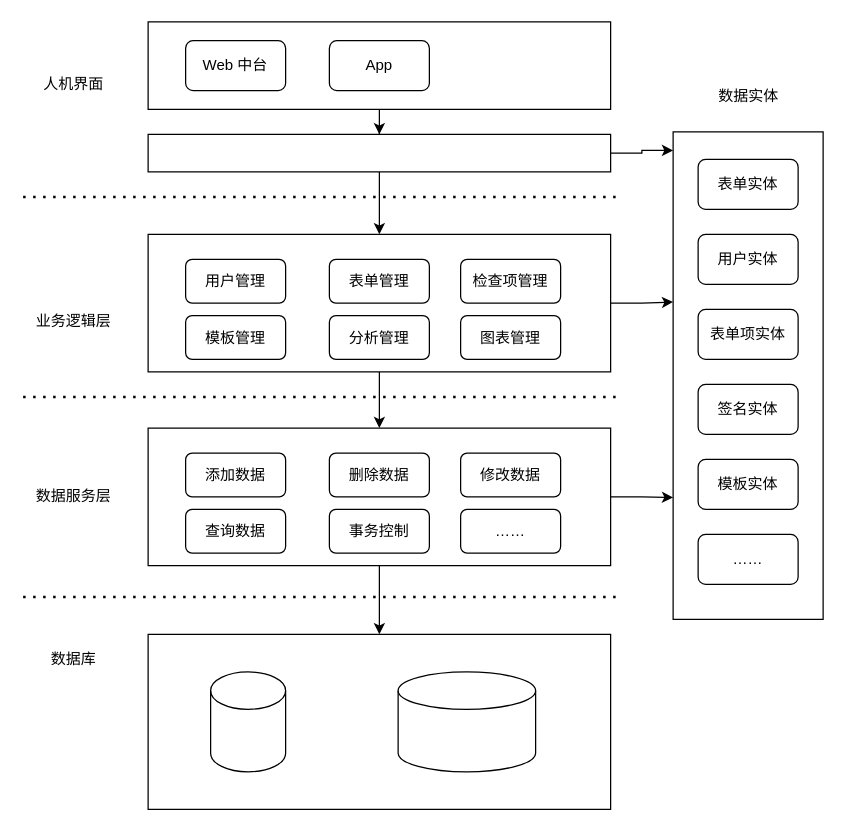
Image size: 845x831. Some labels were removed from this diagram. The centre of each missing label's shape, as x and y in pixels:
"API" goes at pixel 379 152.
"ElasticSearch" goes at pixel 466 721.
"MongoDB" goes at pixel 247 721.
